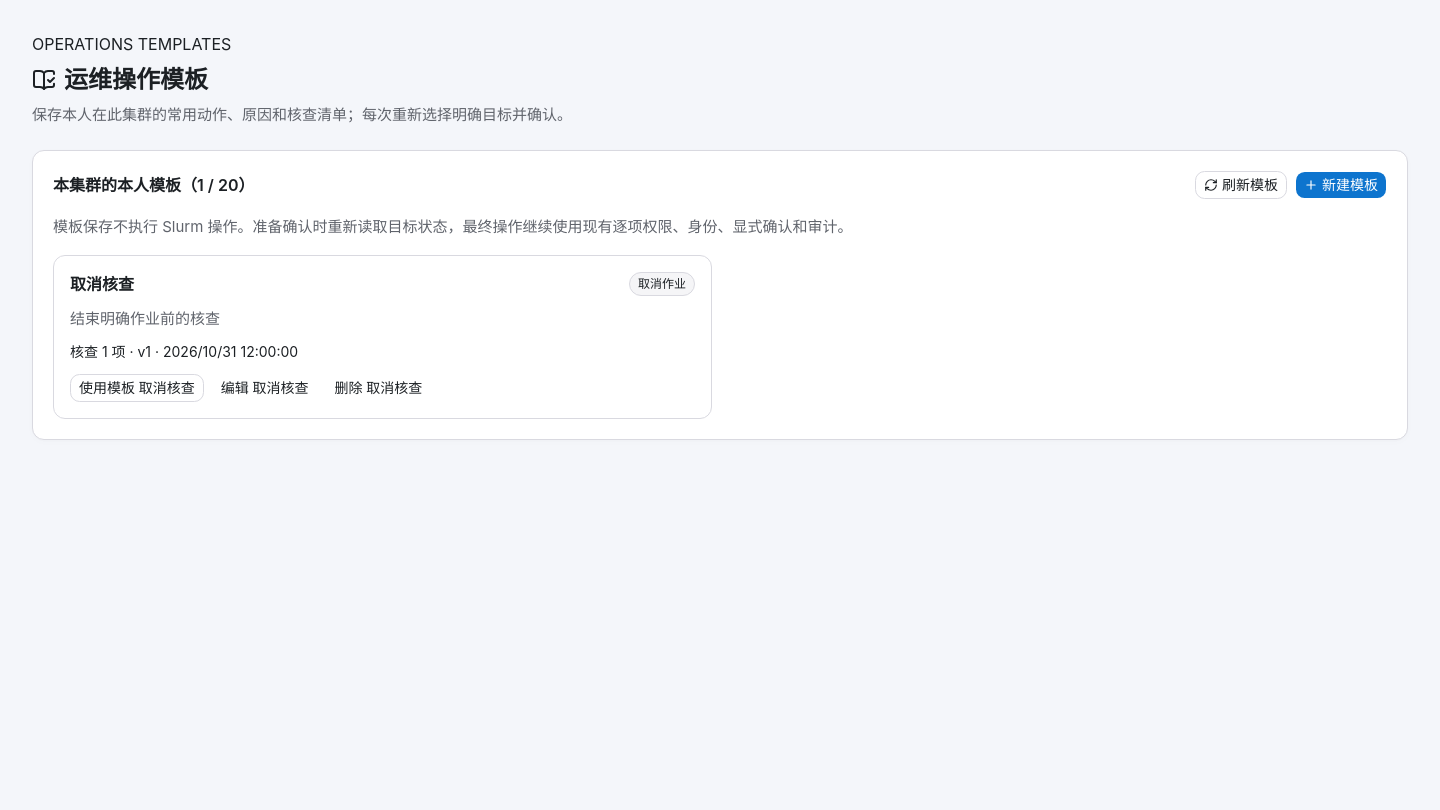
Test case: requires fresh targets and checklist before the existing explicit confirmation dialog
Expected: the heading "取消核查" is shown, [70,272,134,296]
Click the button "使用模板 取消核查".
click(137, 388)  # box [70,374,204,402]
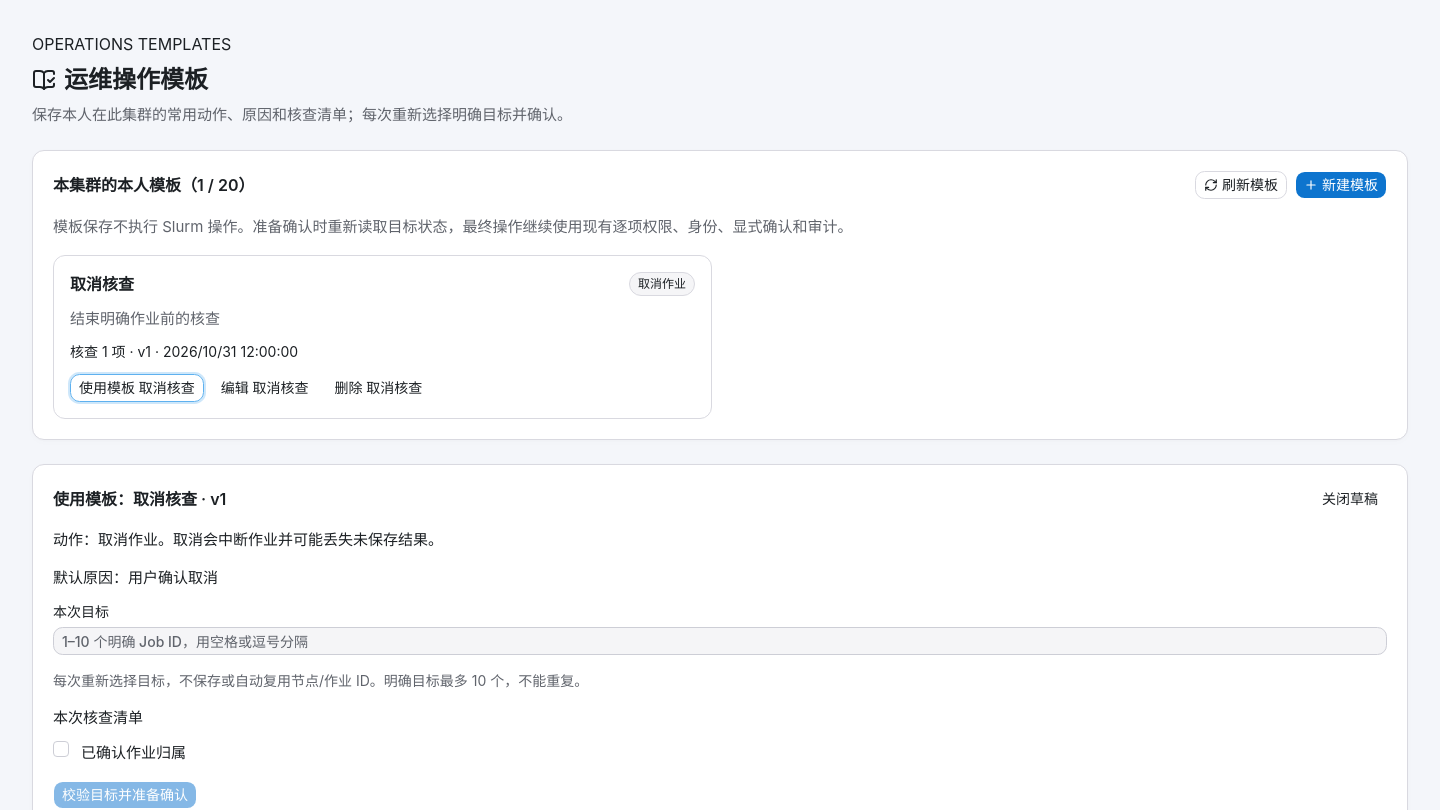
Type "42" into the field named "本次模板目标".
click(720, 641); type("42")  # box [53,627,1387,655]
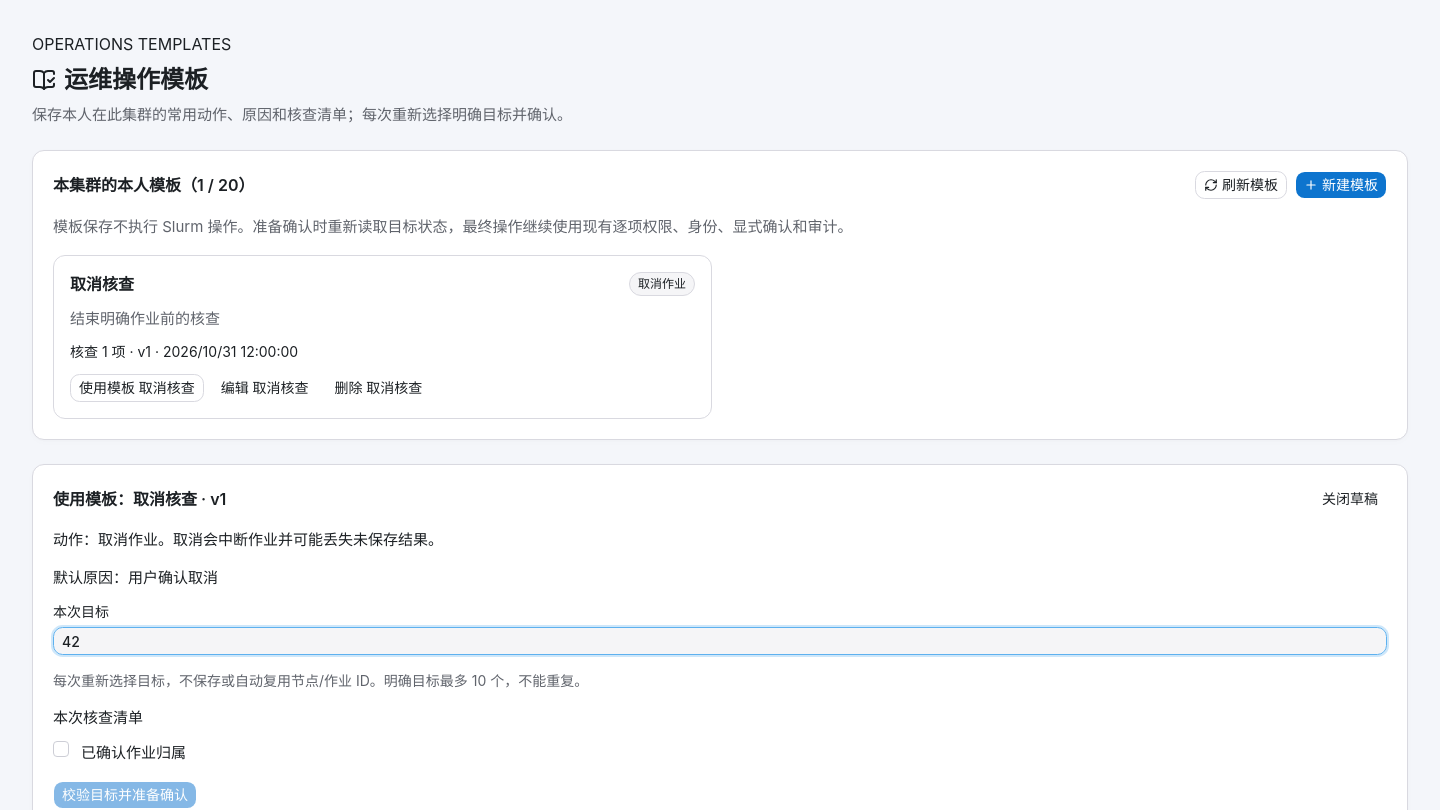
Click the checkbox named "已确认作业归属".
click(61, 749)  # box [53,741,69,757]
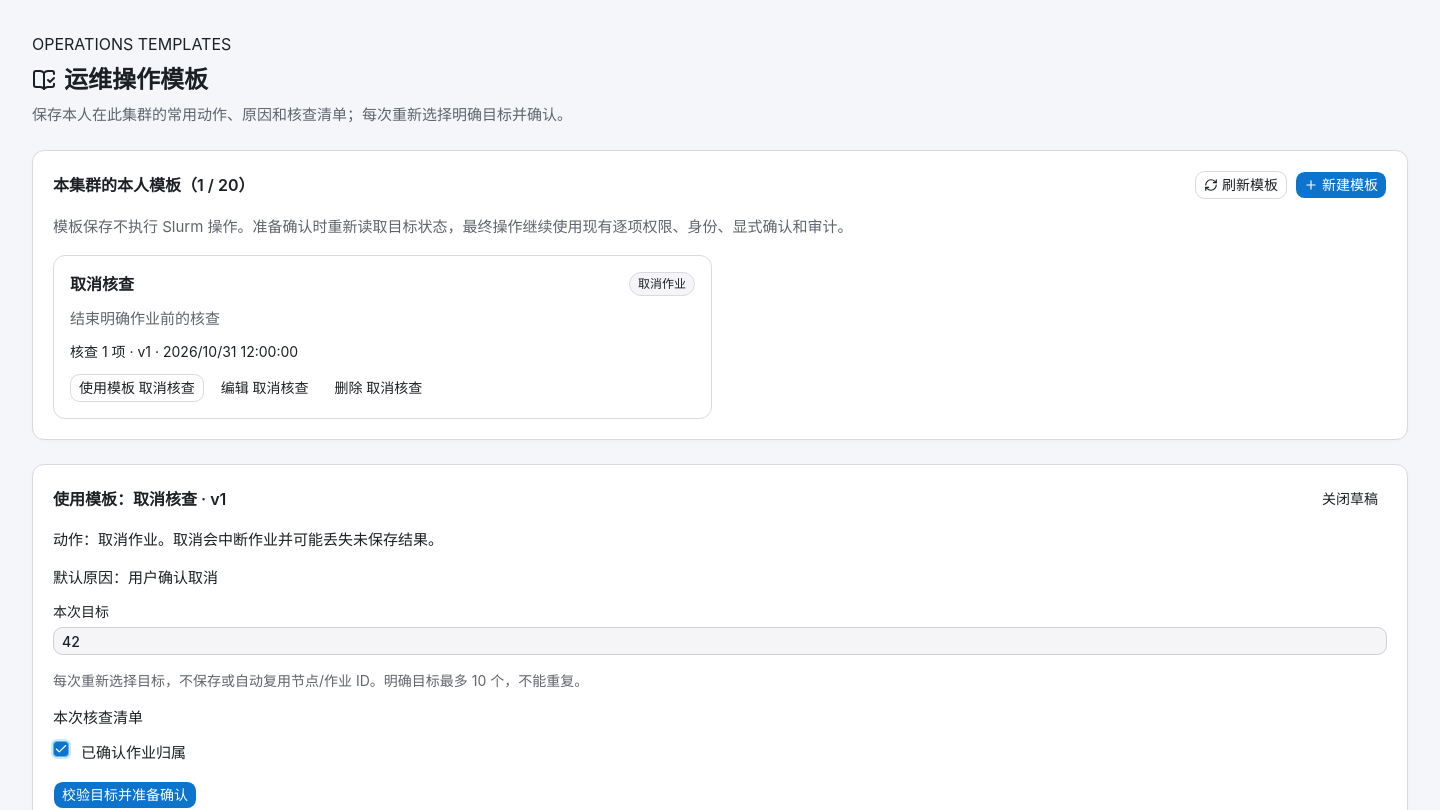
Click the button "校验目标并准备确认".
click(125, 795)  # box [53,781,197,809]
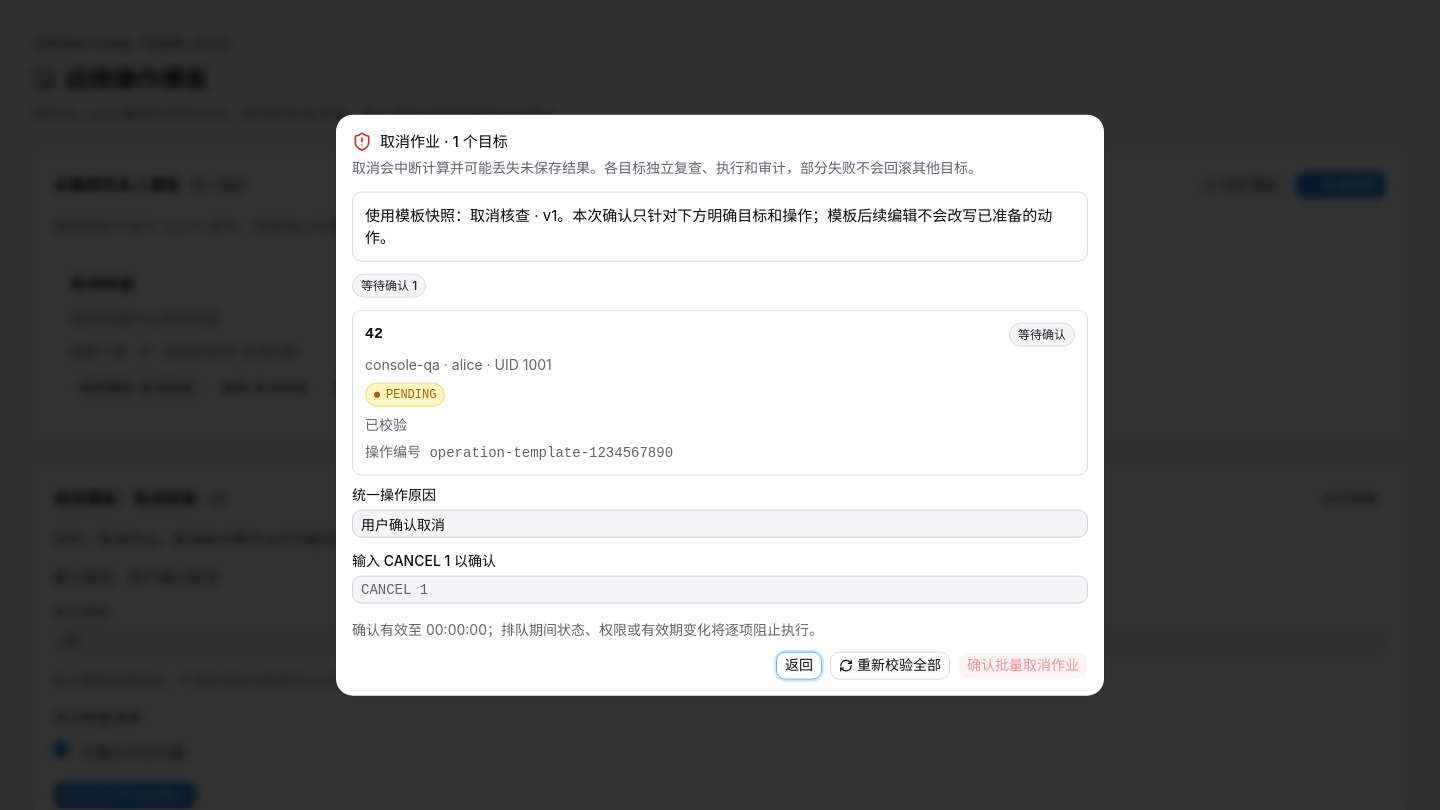
Now the field labelled "统一操作原因" holds "用户确认取消", box [352,509,1088,537]
Now the field labelled "输入 CANCEL 1 以确认" is empty, box [352,575,1088,603]
